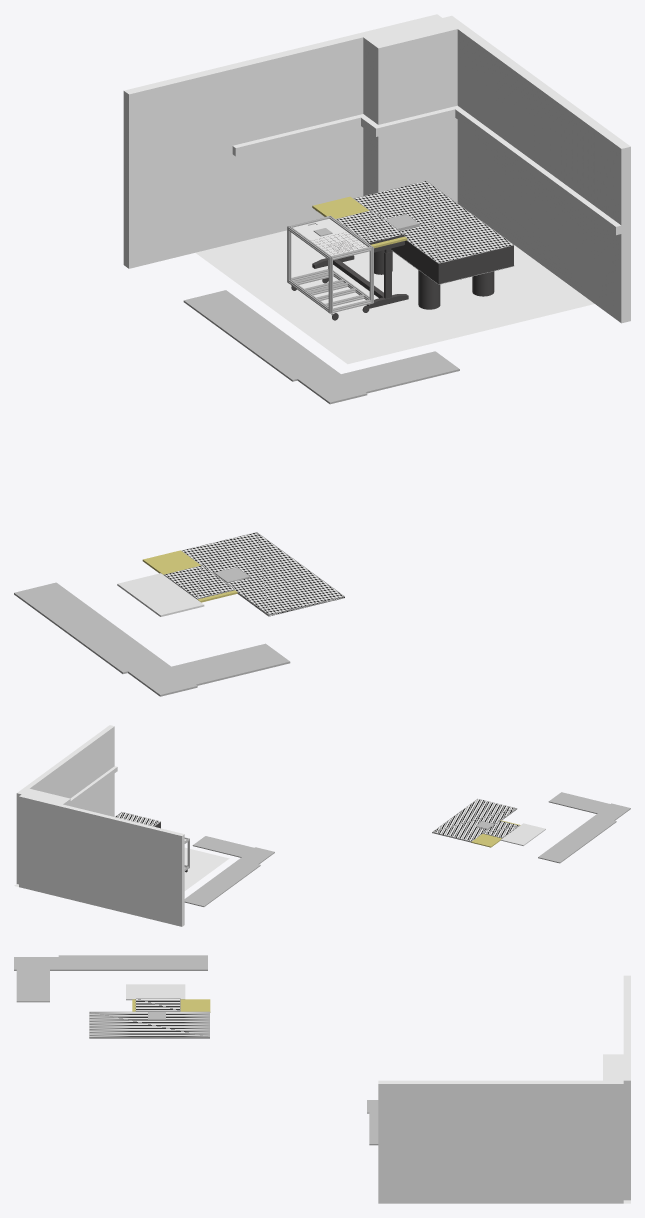
Rendered from Lab(4).dae.
The picture shows the model from 3 angles, top to bottom: view 1: azimuth 30°, elevation 25°; view 2: azimuth 150°, elevation 25°; view 3: azimuth 270°, elevation 25°; orthographic projection. The views are drawn at different scales.
Parts seen in each view (by area): view 1: Mesh59_Model, Mesh9_Group9_Model, Mesh19_Group20_Group16_Model, Mesh7_Group7_Model, Mesh4_Group4_Model, Mesh8_Group8_Model, Mesh3_Group3_Model, Mesh2_Group2_Model, Mesh10_Group10_Model, Mesh21_Group22_Group16_Model, Mesh14_Group14_Model, Mesh11_Group11_Model (+6 smaller); view 2: Mesh59_Model, Mesh9_Group9_Model, Mesh4_Group4_Model, Mesh7_Group7_Model, Mesh10_Group10_Model, Mesh2_Group2_Model, Mesh8_Group8_Model, Mesh3_Group3_Model, Mesh14_Group14_Model, Mesh13_Group13_Model, Mesh11_Group11_Model, Mesh5_Group5_Model (+1 smaller); view 3: Mesh59_Model, Mesh9_Group9_Model, Mesh8_Group8_Model, Mesh10_Group10_Model, Mesh7_Group7_Model, Mesh14_Group14_Model, Mesh13_Group13_Model, Mesh11_Group11_Model, Mesh6_Group6_Model.
Boxes of the visible parts, left/top/right/bottom form: Mesh59_Model: left=123, top=14, right=630, bottom=364; Mesh9_Group9_Model: left=181, top=532, right=344, bottom=616; Mesh19_Group20_Group16_Model: left=353, top=181, right=514, bottom=263; Mesh7_Group7_Model: left=172, top=643, right=290, bottom=685; Mesh4_Group4_Model: left=341, top=351, right=459, bottom=393; Mesh8_Group8_Model: left=68, top=622, right=164, bottom=673; Mesh3_Group3_Model: left=238, top=330, right=334, bottom=381; Mesh2_Group2_Model: left=183, top=290, right=279, bottom=341; Mesh10_Group10_Model: left=14, top=582, right=110, bottom=633; Mesh21_Group22_Group16_Model: left=391, top=240, right=513, bottom=284; Mesh14_Group14_Model: left=117, top=573, right=204, bottom=616; Mesh11_Group11_Model: left=128, top=662, right=197, bottom=696; Mesh59_Model: left=14, top=725, right=229, bottom=926; Mesh9_Group9_Model: left=432, top=799, right=517, bottom=842; Mesh4_Group4_Model: left=192, top=836, right=254, bottom=857; Mesh7_Group7_Model: left=548, top=792, right=609, bottom=813; Mesh10_Group10_Model: left=538, top=836, right=588, bottom=863; Mesh2_Group2_Model: left=184, top=880, right=232, bottom=906; Mesh8_Group8_Model: left=566, top=816, right=616, bottom=842; Mesh3_Group3_Model: left=211, top=859, right=260, bottom=886; Mesh14_Group14_Model: left=500, top=823, right=545, bottom=845; Mesh13_Group13_Model: left=482, top=821, right=519, bottom=838; Mesh11_Group11_Model: left=595, top=803, right=630, bottom=820; Mesh5_Group5_Model: left=239, top=847, right=274, bottom=864; Mesh59_Model: left=378, top=975, right=630, bottom=1203; Mesh9_Group9_Model: left=89, top=1011, right=209, bottom=1038; Mesh8_Group8_Model: left=58, top=955, right=133, bottom=970; Mesh10_Group10_Model: left=133, top=955, right=207, bottom=970; Mesh7_Group7_Model: left=16, top=969, right=49, bottom=1002; Mesh14_Group14_Model: left=126, top=984, right=185, bottom=1000; Mesh13_Group13_Model: left=135, top=998, right=180, bottom=1011; Mesh11_Group11_Model: left=14, top=957, right=58, bottom=970; Mesh6_Group6_Model: left=132, top=999, right=210, bottom=1012.
Bounding box in the file's own units: 9.72 × 10.22 × 2.21.
